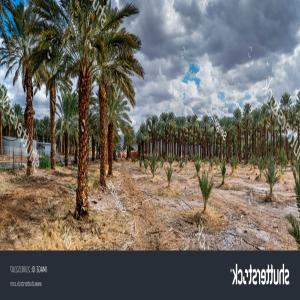palm tree: (88, 1, 144, 188), (60, 0, 107, 220), (0, 0, 52, 176), (54, 88, 78, 166)
